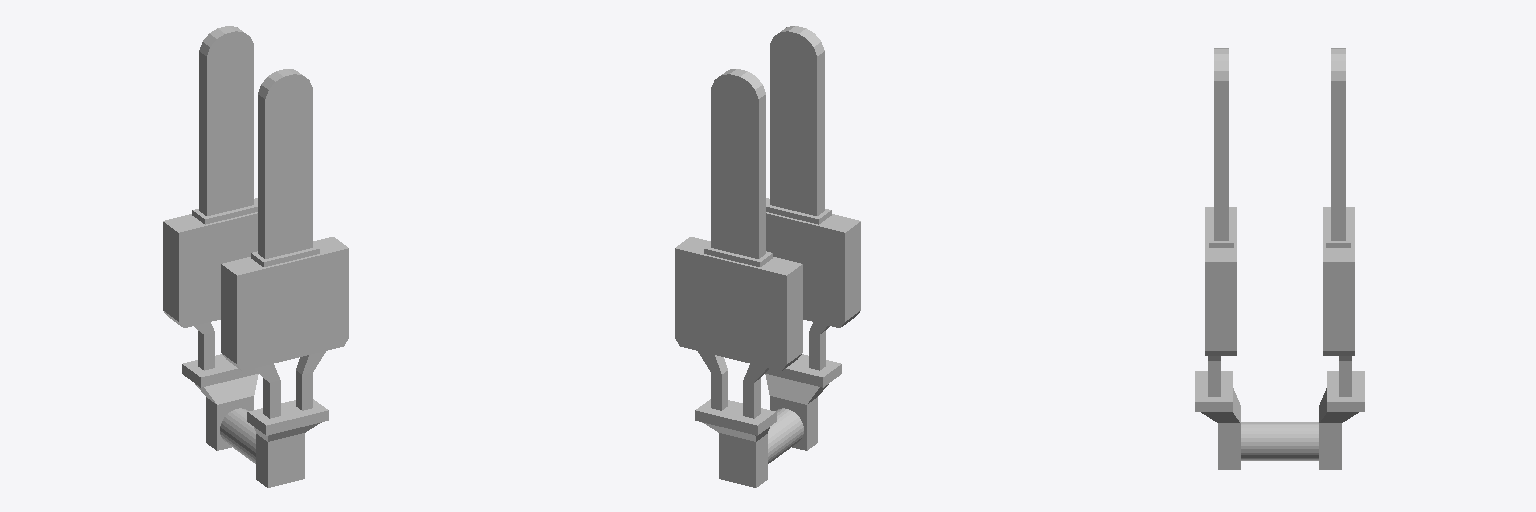
Rendered from machinearm_arm_lower.obj.
3 views of the same model, side by side, from view 1: azimuth 30°, elevation 25°; view 2: azimuth 150°, elevation 25°; view 3: azimuth 270°, elevation 25° (orthographic).
Parts seen in each view (by area): view 1: Cube.002_Cube.003; view 2: Cube.002_Cube.003; view 3: Cube.002_Cube.003.
Part boxes in pixels (x1,y1,x2,y2): Cube.002_Cube.003: (163,26,348,487); Cube.002_Cube.003: (675,26,860,487); Cube.002_Cube.003: (1195,48,1364,469).
Size of the model in its own units: 0.405 by 1.41 by 0.5281.